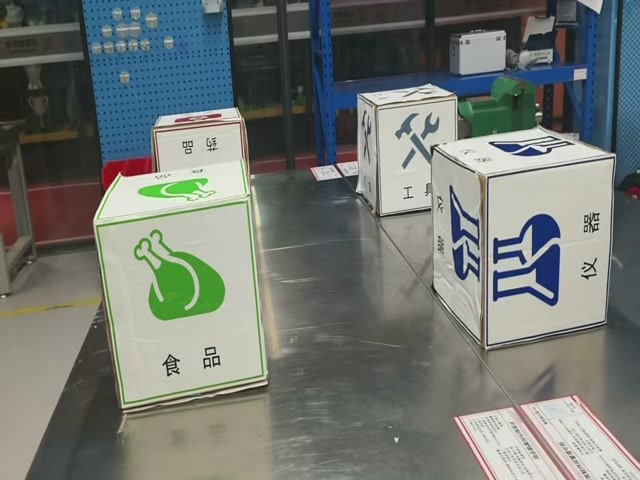Cube_food: (94, 161, 249, 226)
Cube_ins: (435, 128, 614, 181)
Cube_medicine: (152, 108, 243, 133)
Cube_tool: (358, 85, 456, 111)
